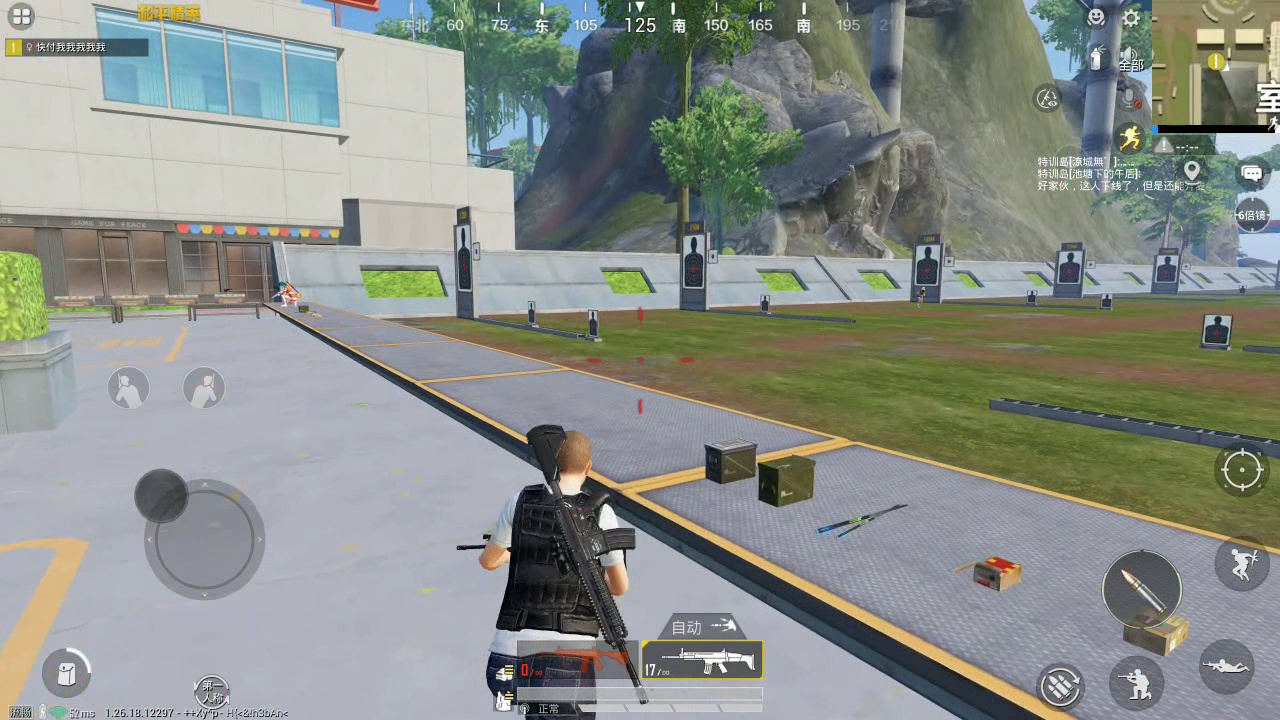enemy: (276, 280, 304, 308)
